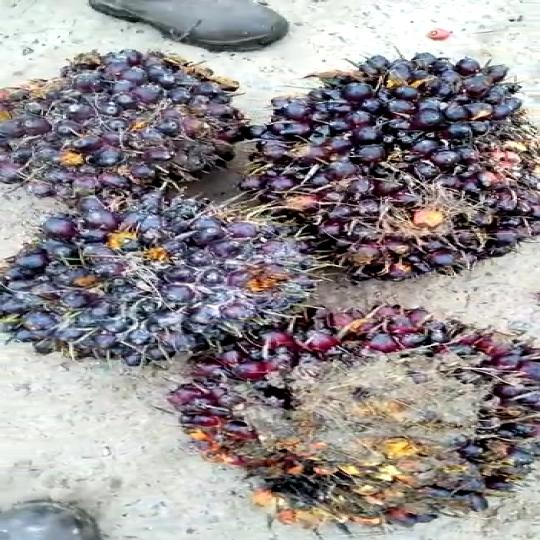kurang masak: (158, 306, 540, 517), (225, 68, 540, 270), (0, 194, 330, 353), (0, 46, 253, 200)
